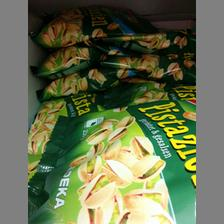Nuss: (28, 98, 196, 222), (29, 4, 157, 48)
